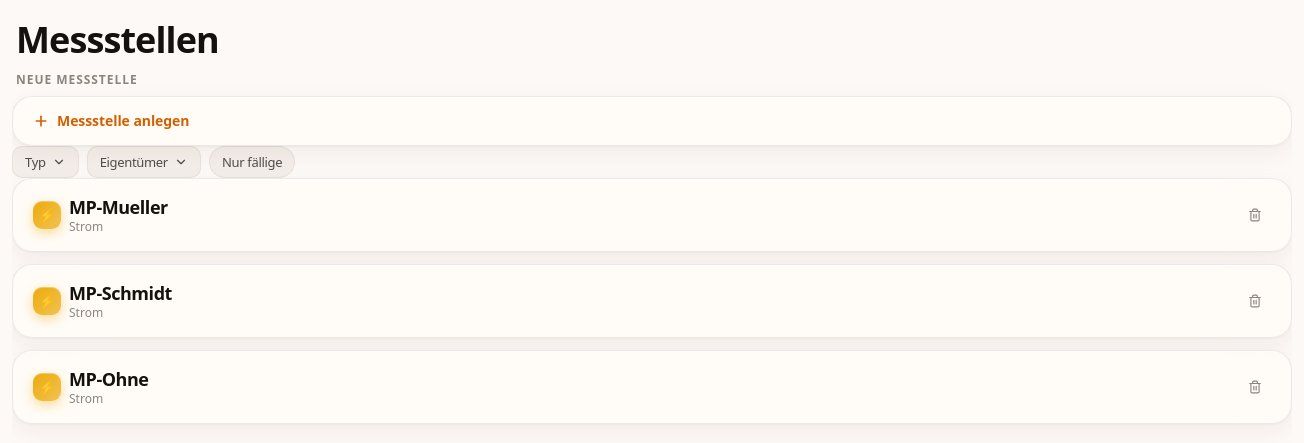
Test case: MeasuringPointsAdminPage Wizard › filtert die Liste nach Eigentümer inkl. „ohne Eigentümer"-Option
expect the text "MP-Mueller" is shown: met, box [69,195,168,219]
Click the button "Eigentümer". click: [144, 162]
box: [87,146,201,178]
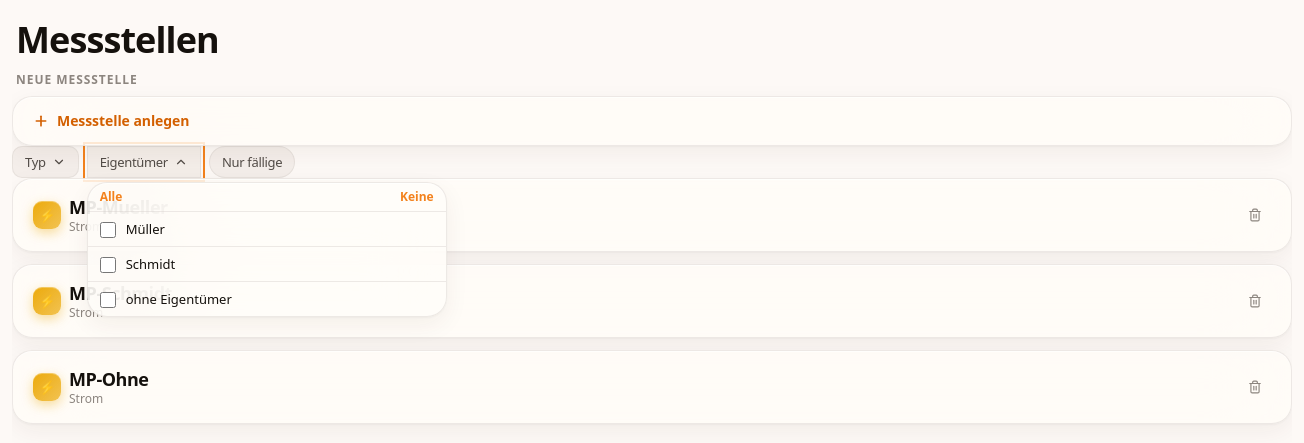
Click the checkbox labelled "Müller". click: [108, 230]
box: [100,222,116,238]
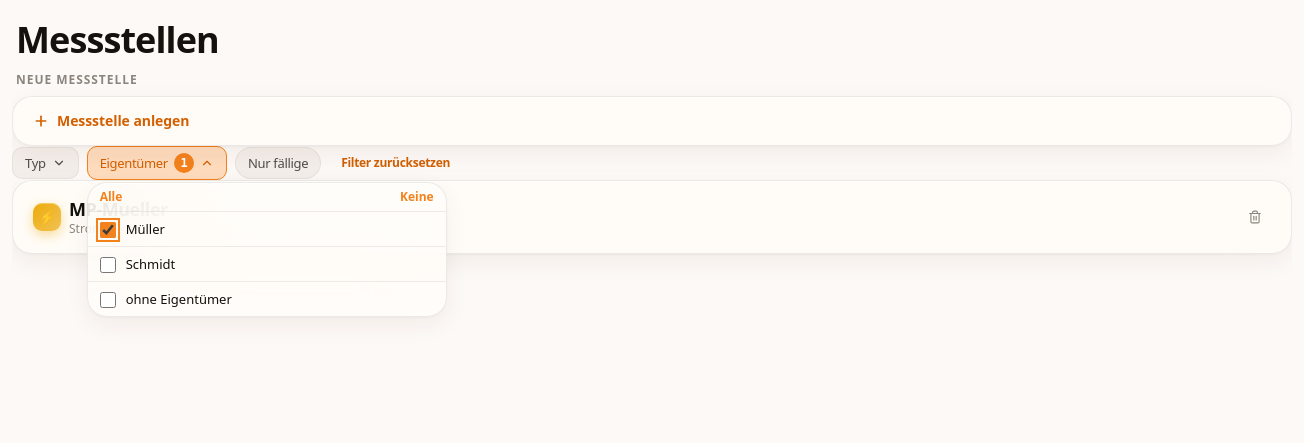
expect the text "MP-Mueller" is shown: met, box [69,197,168,221]
expect the link "MP-Schmidt" is gone: met
expect the link "MP-Ohne" is gone: met
Note: „ohne Eigentümer" zusätzlich ankreuzen → MP ohne Zuordnung kommt dazu.
Click the checkbox labelled "ohne Eigentümer". click: [108, 300]
box: [100,292,116,308]
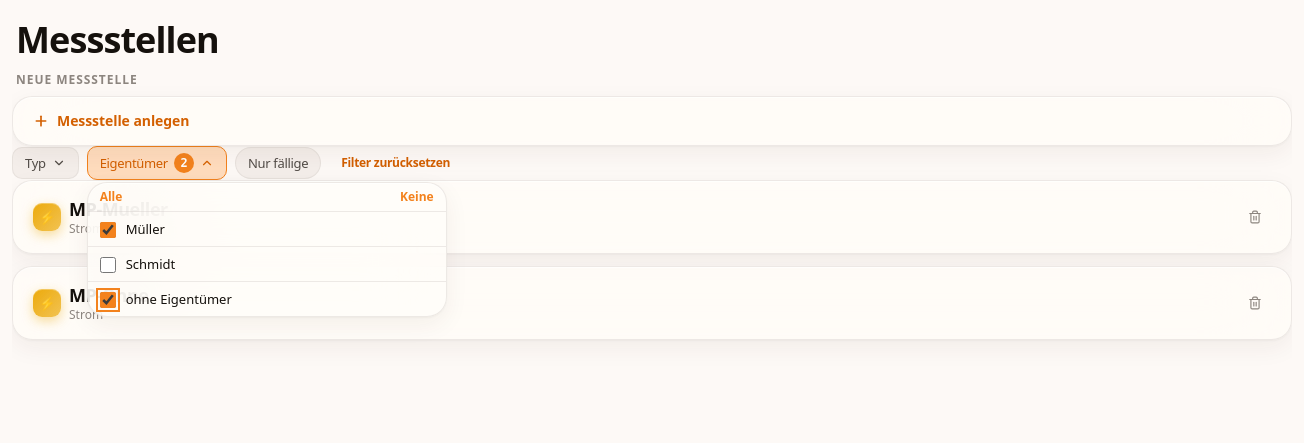
expect the text "MP-Mueller" is shown: met, box [69,197,168,221]
expect the text "MP-Ohne" is shown: met, box [69,283,148,307]
